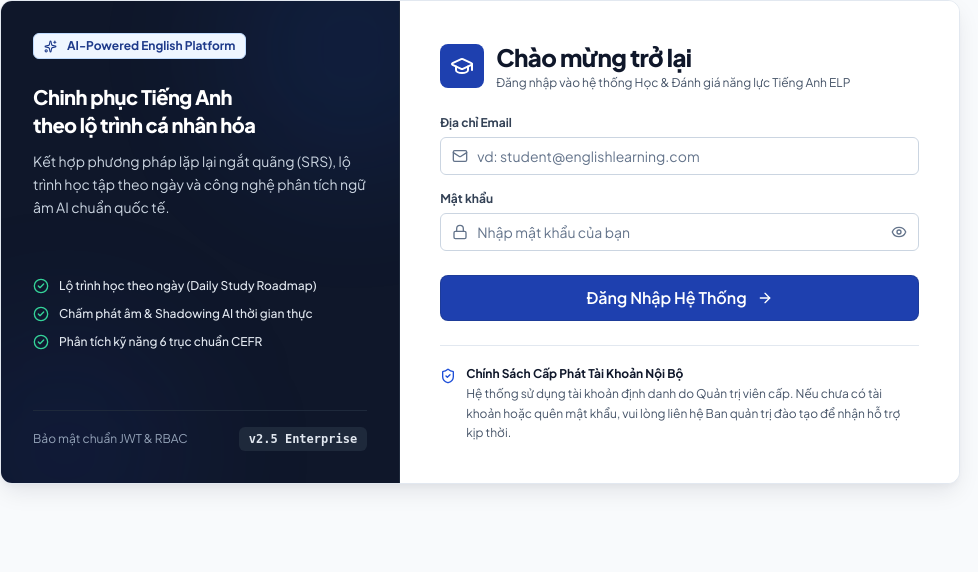
features/auth - LoginPage › hiển thị thông báo lỗi từ server, lỗi mạng (không có response) và lỗi mặc định
The image size is (978, 572).
Type "student@elp.edu.vn" into the field labelled "Địa chỉ Email" at (680,156), box [440,137,919,175]
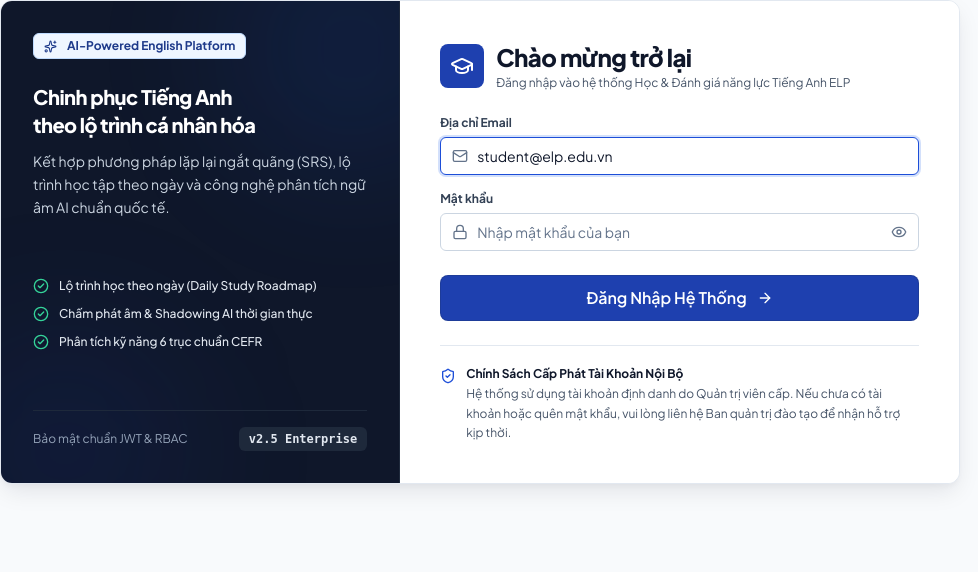
Type "wrong-pass" into the password field named "password" at (680,232), box [440,213,919,251]
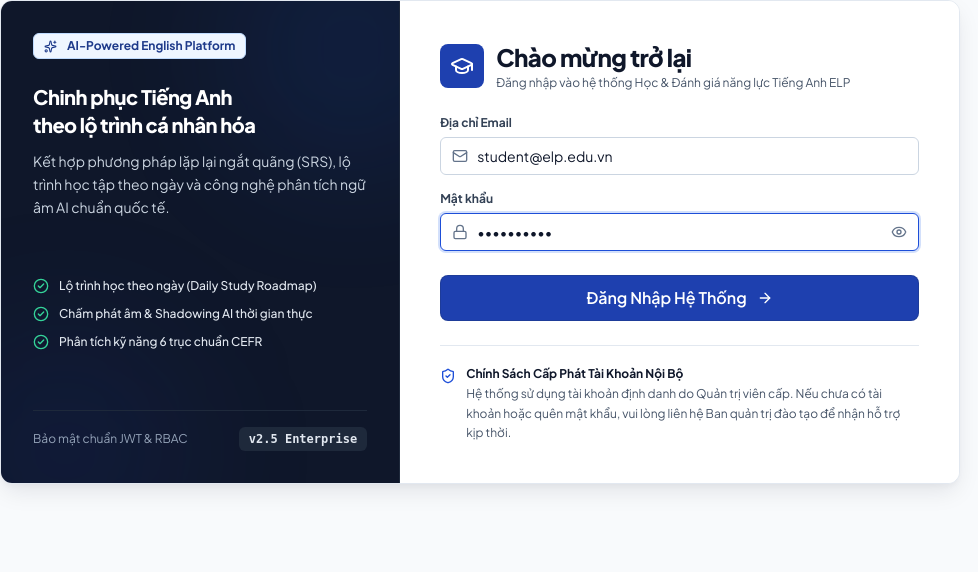
Click the button "Đăng Nhập Hệ Thống" at (680,298), box [440,275,919,321]
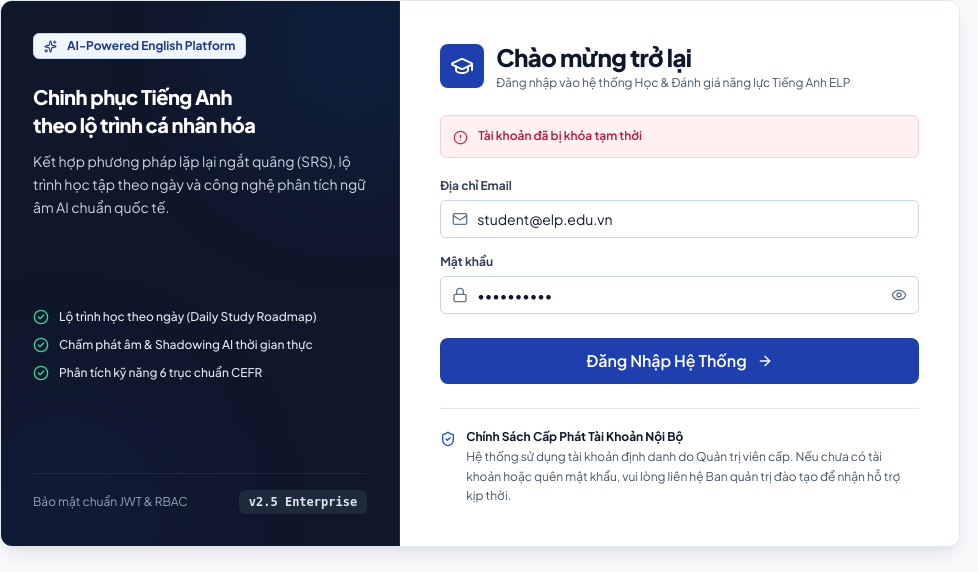
expect the text "Tài khoản đã bị khóa tạm thời" is shown: met, box [478,128,642,144]
Click the button "Đăng Nhập Hệ Thống" at (680,361), box [440,338,919,384]
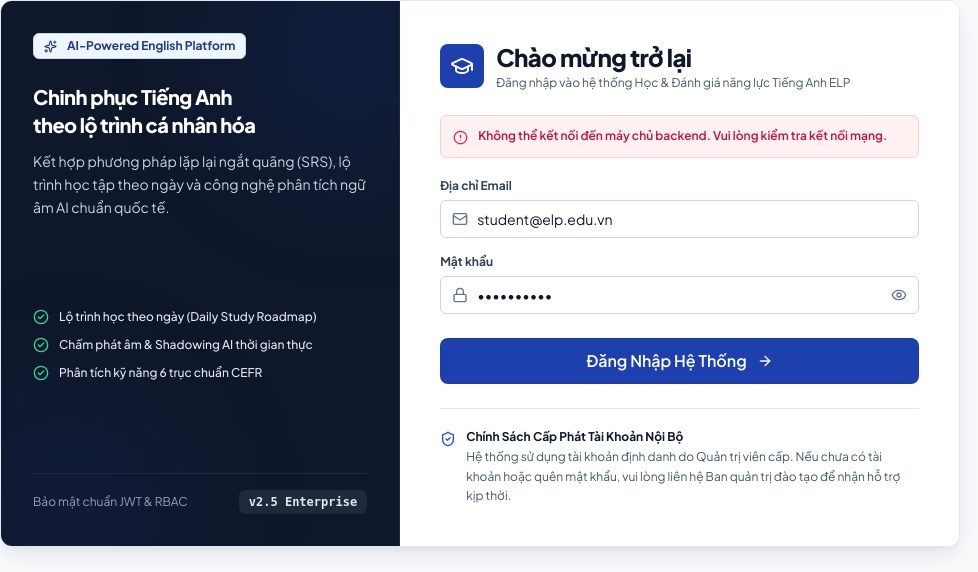
expect the text "Không thể kết nối đến máy chủ backend. Vui lòng kiểm tra kết nối mạng." is shown: met, box [478,128,887,144]
Click the button "Đăng Nhập Hệ Thống" at (680,361), box [440,338,919,384]
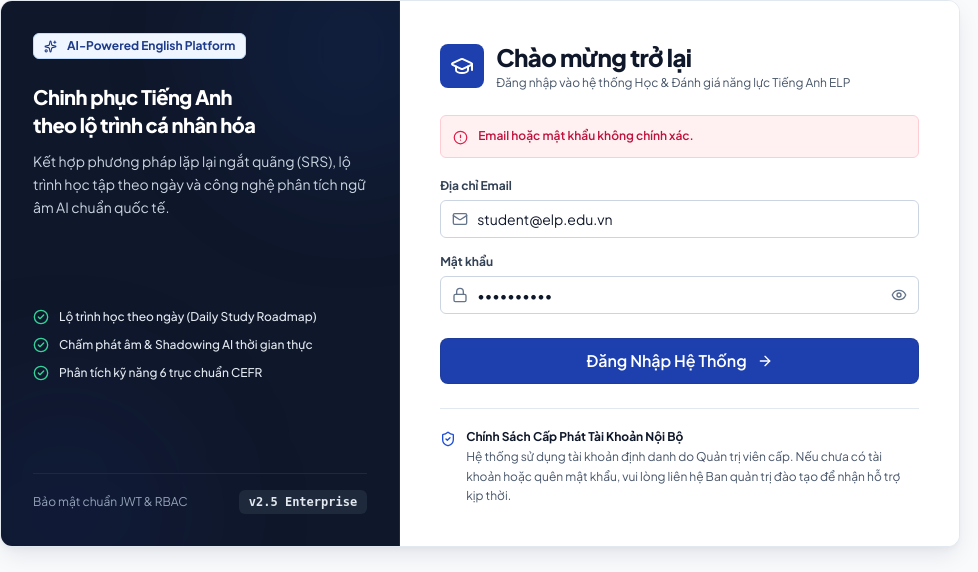
expect the text "Email hoặc mật khẩu không chính xác." is shown: met, box [478,128,694,144]
